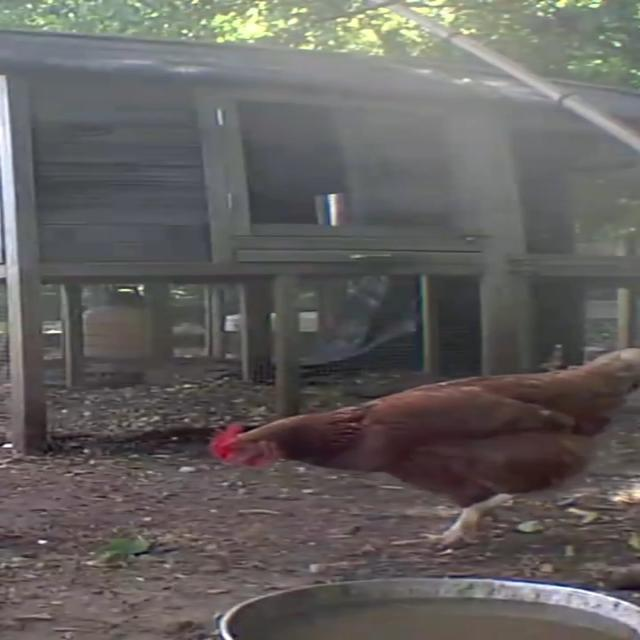walking: (189, 346, 640, 552)
